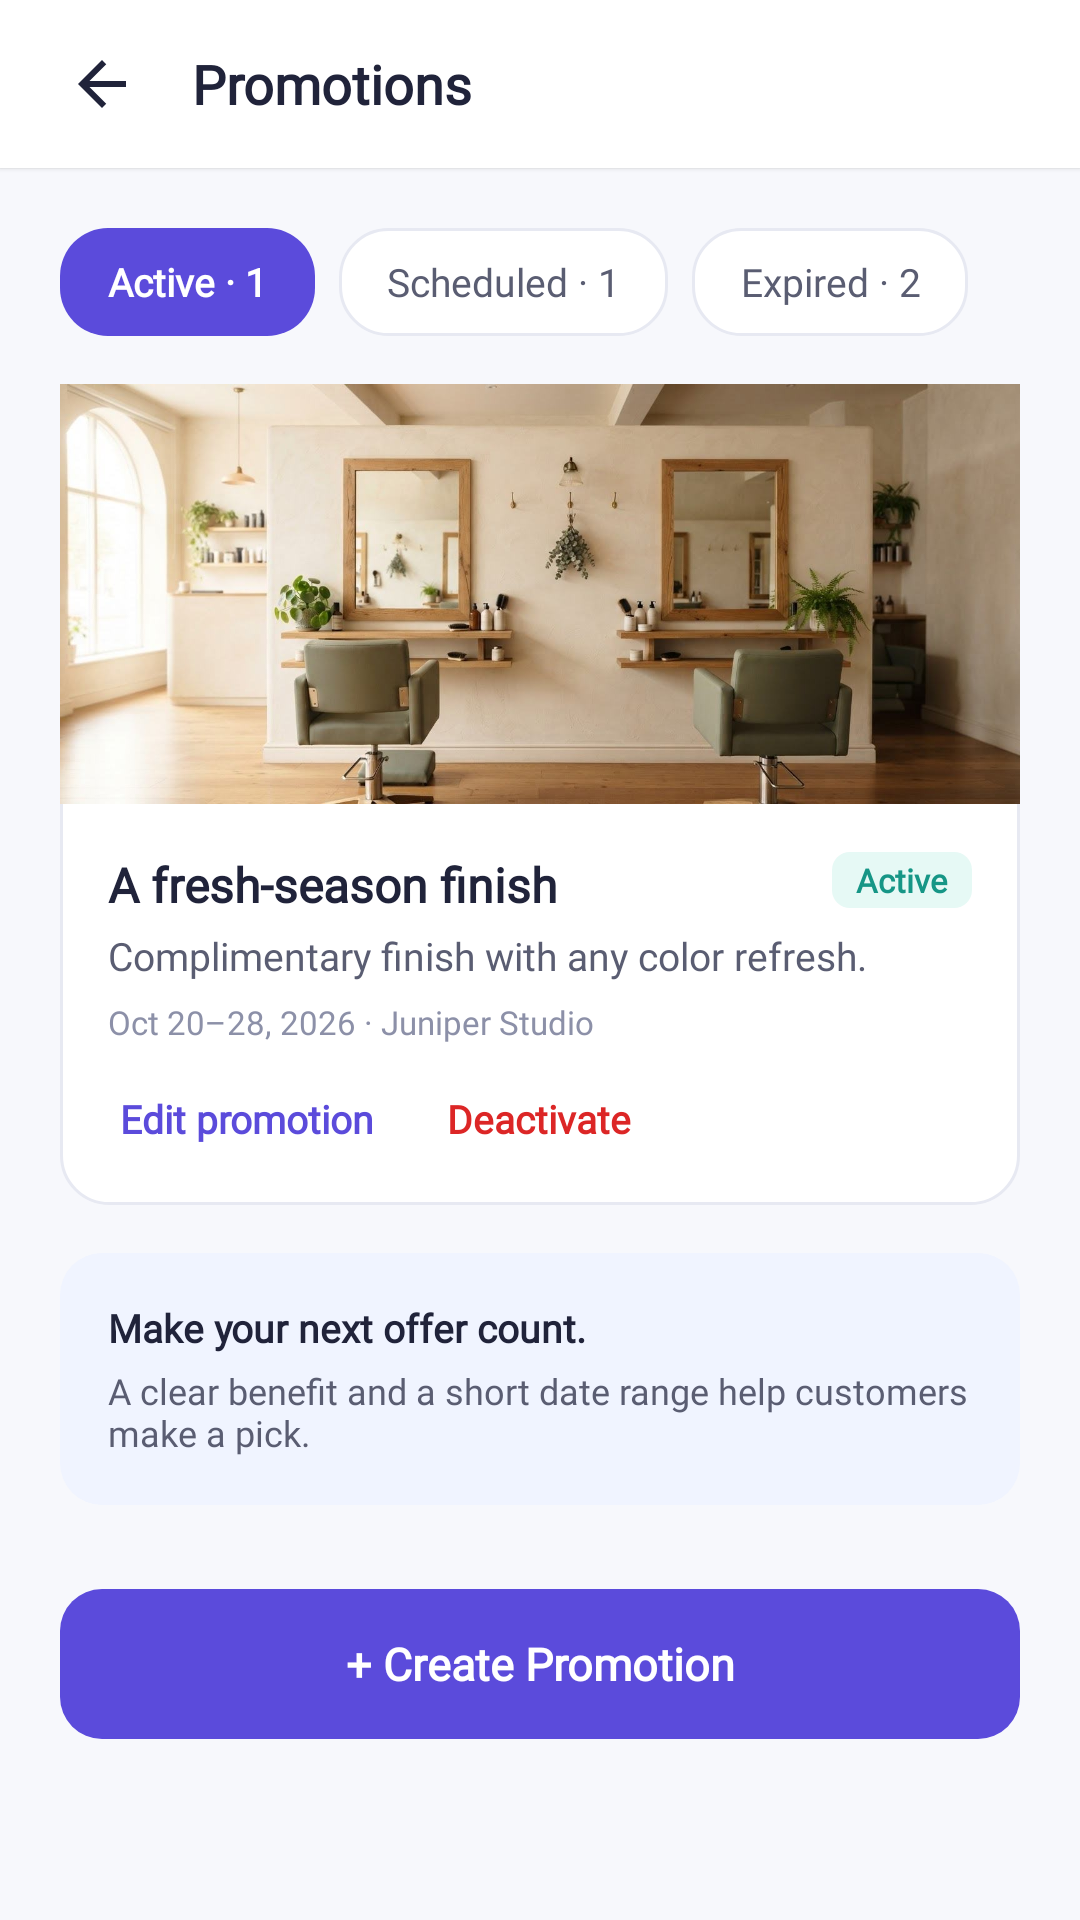

Locate icon controls on the screen. Image size 1080×1920, boxes as (x1, y1, x2, y2).
Back: (78, 60, 126, 108)
